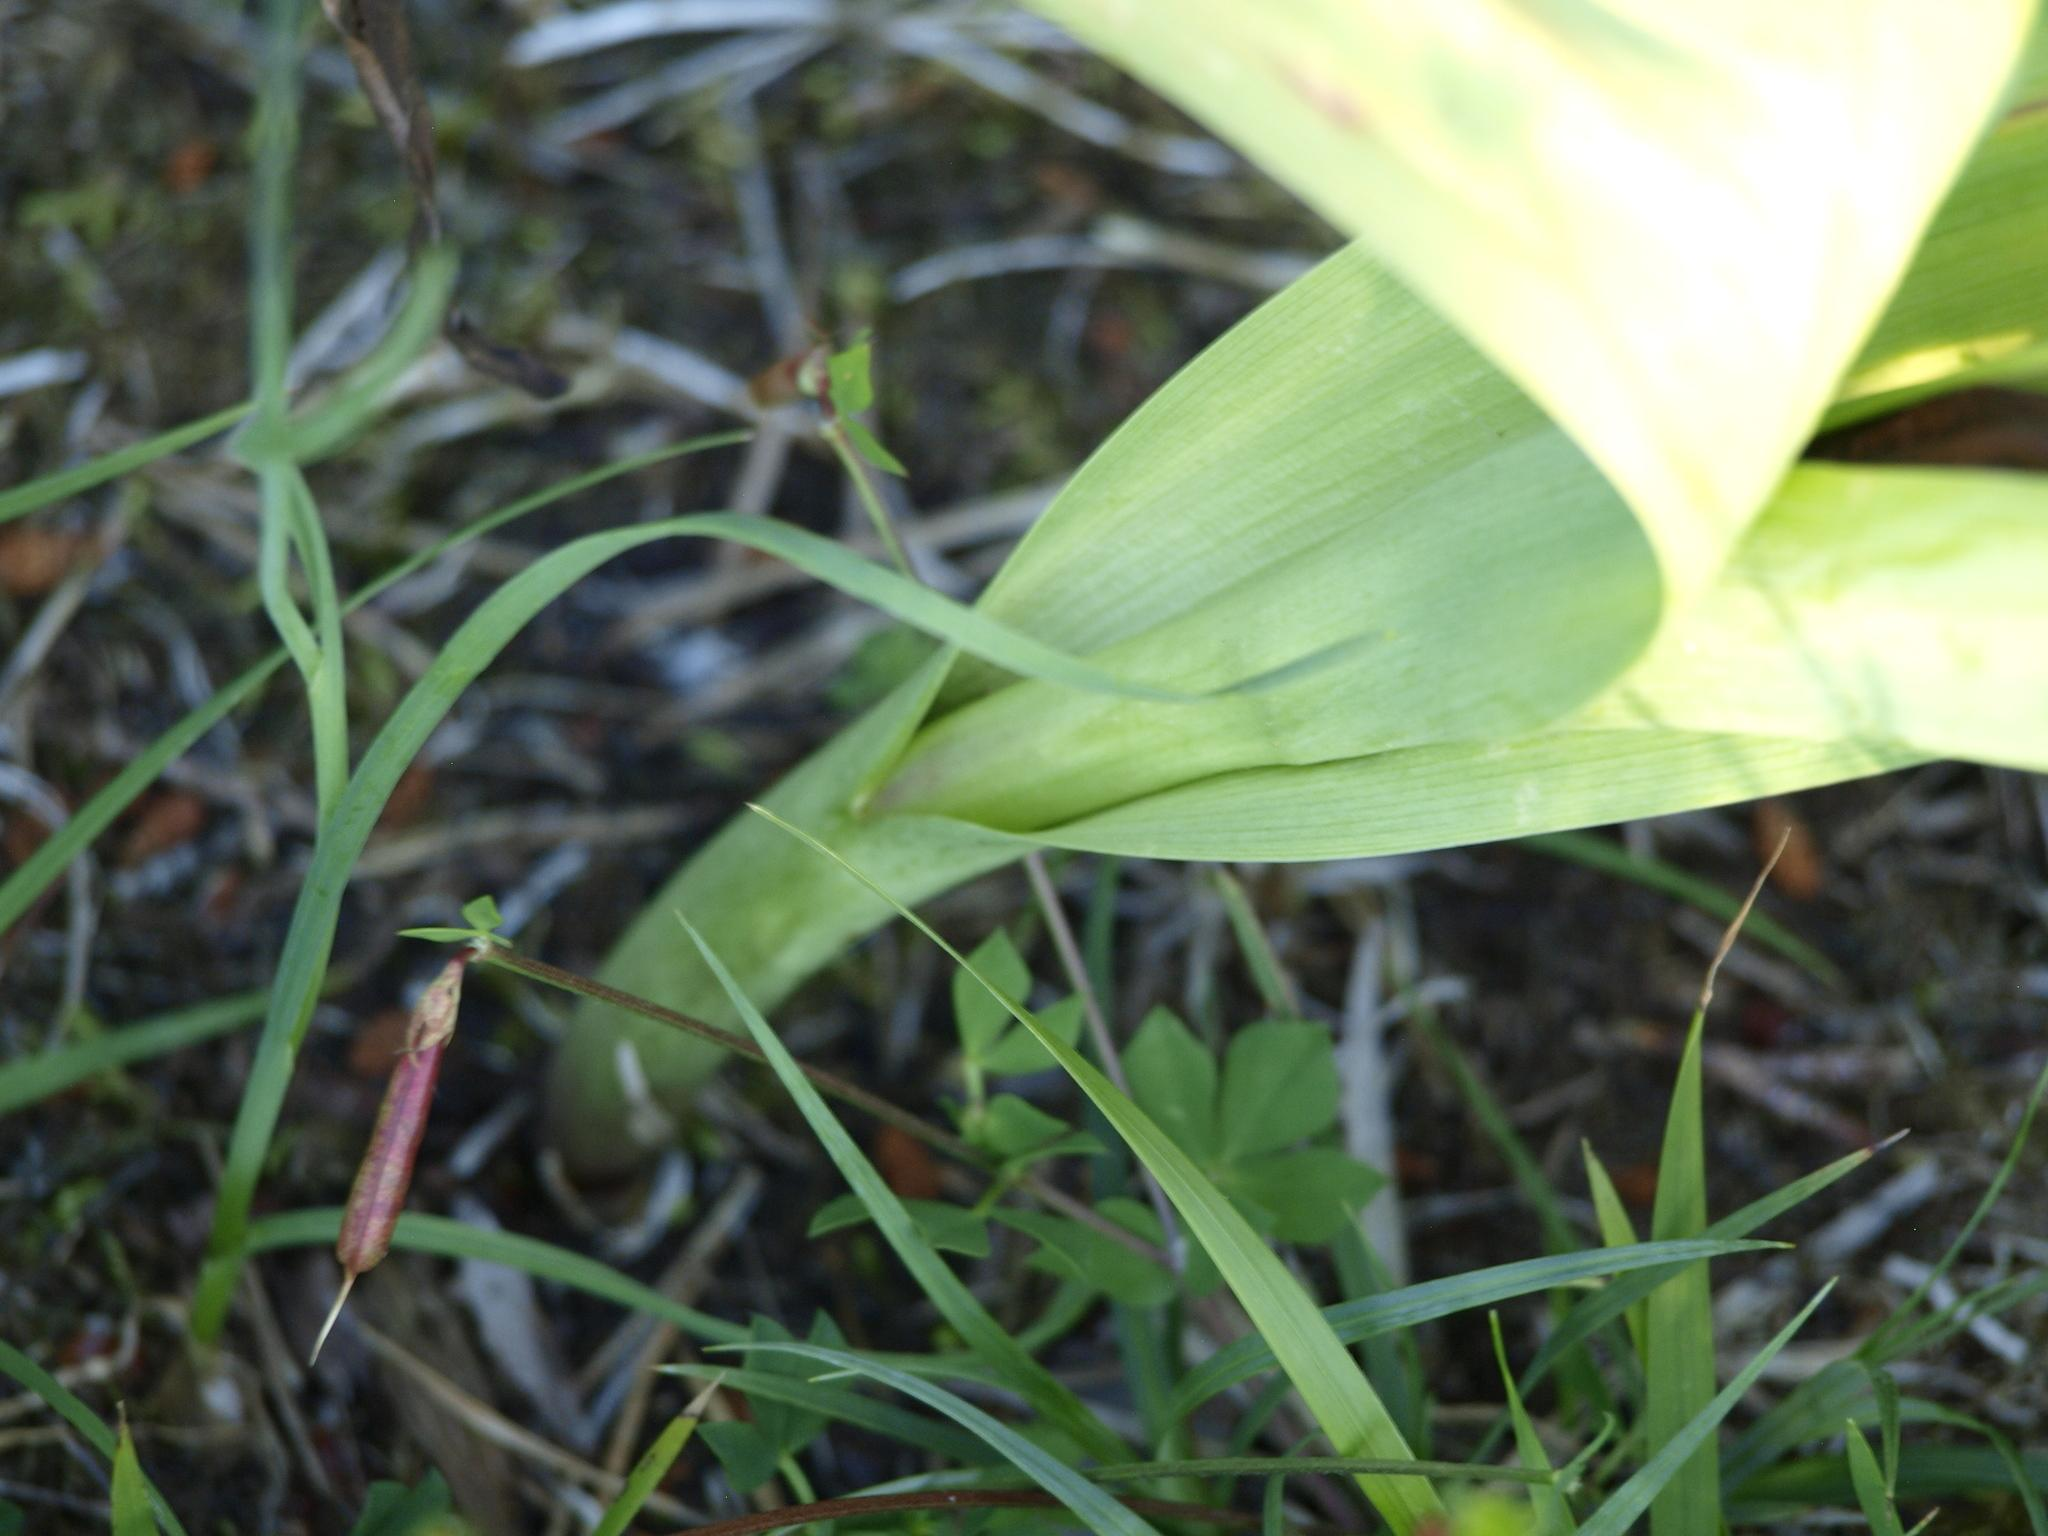Colchicum autumnale L: (398, 0, 2048, 1199)
